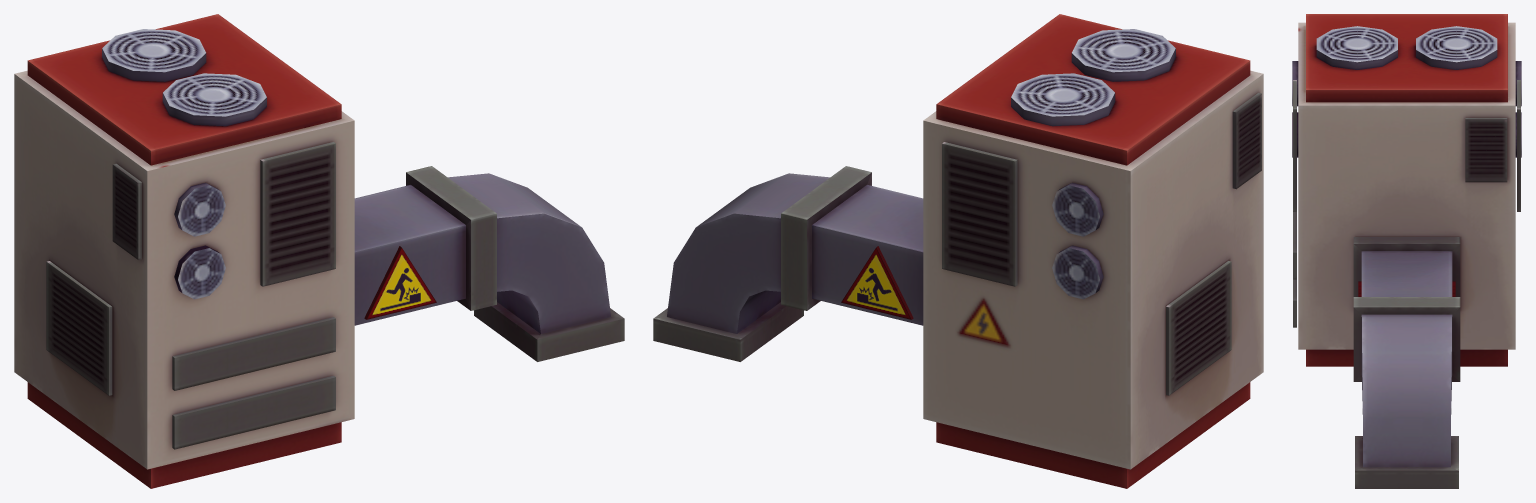
Rendered from Obstacle_AC1.FBX.
3 renders of one model, left to right at view 1: azimuth 30°, elevation 25°; view 2: azimuth 150°, elevation 25°; view 3: azimuth 270°, elevation 25°, orthographic. The views are drawn at different scales.
Visible parts, largest first — view 1: Obstacle_AC1; view 2: Obstacle_AC1; view 3: Obstacle_AC1.
Part boxes in pixels (left/top/right/bottom): Obstacle_AC1: left=14, top=14, right=624, bottom=488; Obstacle_AC1: left=653, top=14, right=1263, bottom=488; Obstacle_AC1: left=1292, top=14, right=1521, bottom=488.
Size of the model in its own units: 24.71 by 15.93 by 11.64.
